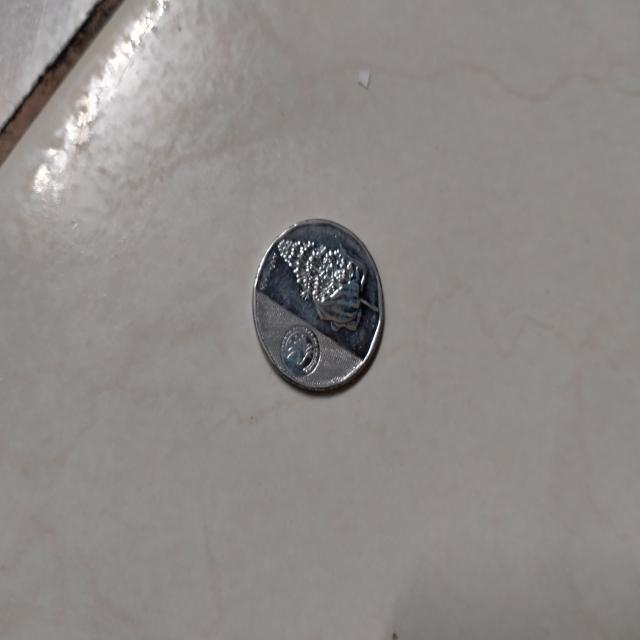10_New_Back: (273, 230, 370, 380)
